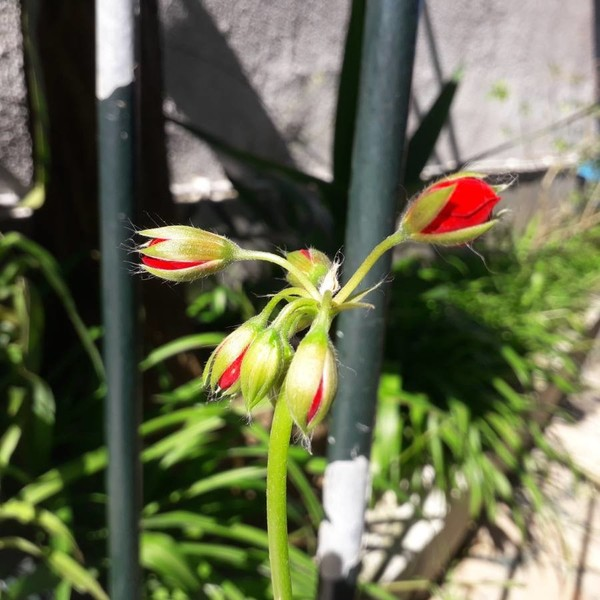obstacle: (145, 156, 526, 581)
